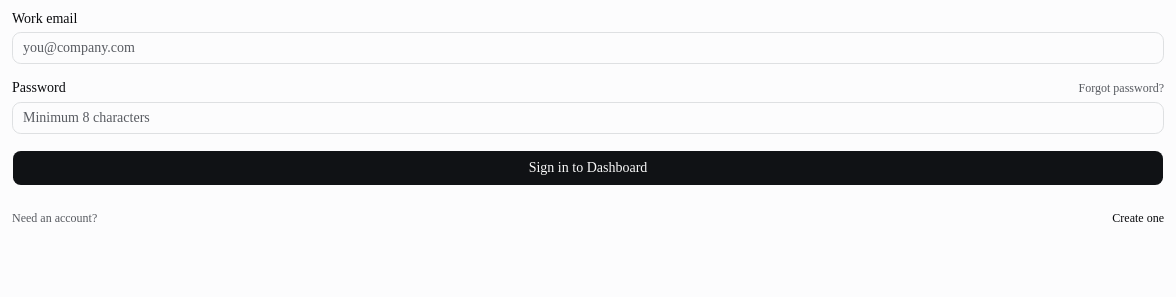
Test: AuthForm UI › shows validation error on invalid login inputs
The image size is (1176, 297).
Click the button "Sign in to Dashboard".
click(588, 168)  # box x1=12 y1=150 x2=1164 y2=186
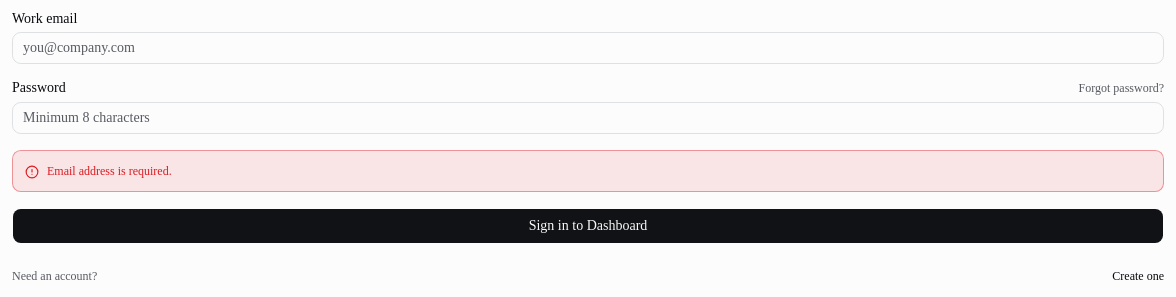
Result: the message shows "Email address is required" at x1=47 y1=164 x2=172 y2=178
